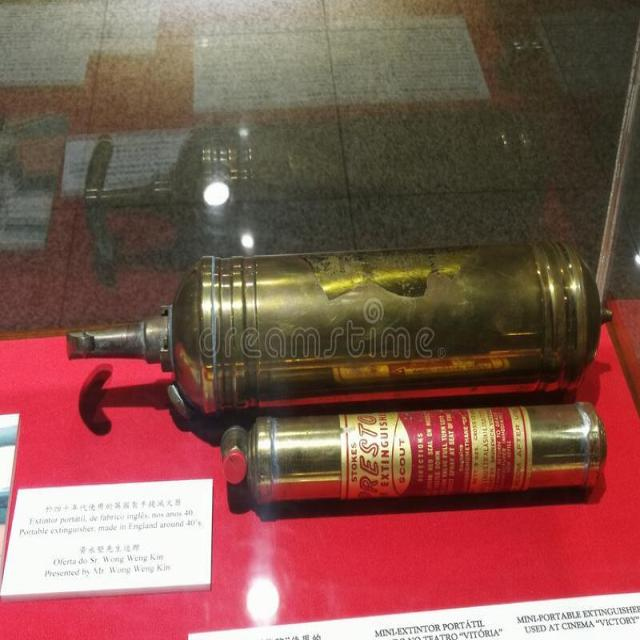fire_extinguisher: (62, 232, 610, 433), (215, 391, 610, 503)
